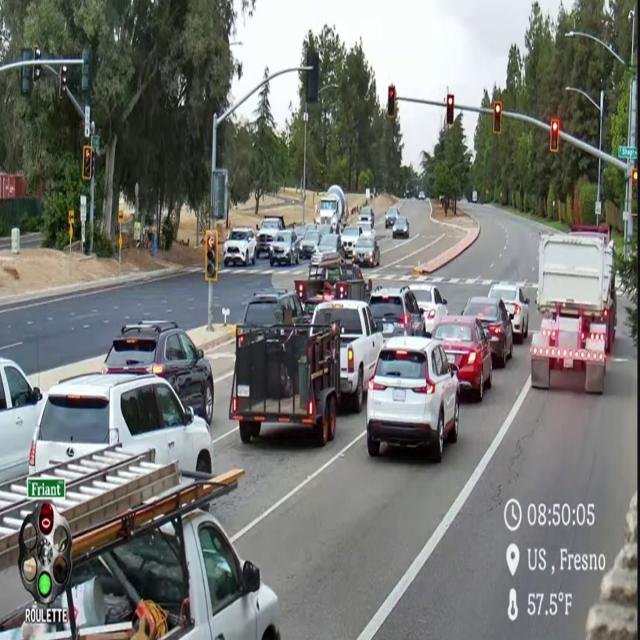car: (29, 373, 213, 474), (102, 321, 214, 424), (367, 337, 459, 462), (0, 359, 43, 482), (433, 316, 492, 401), (462, 296, 513, 367), (369, 286, 424, 339), (489, 283, 529, 343), (242, 289, 304, 326), (409, 283, 448, 335), (223, 228, 256, 266), (257, 216, 285, 258), (270, 230, 299, 266), (353, 237, 380, 266), (314, 234, 344, 258), (340, 225, 362, 257), (300, 227, 321, 258), (392, 216, 409, 239), (357, 220, 376, 238), (385, 207, 399, 229), (358, 207, 374, 226), (294, 224, 314, 239), (316, 224, 334, 236), (418, 192, 425, 199)
traffic signal: (306, 51, 319, 103), (205, 230, 217, 281), (38, 502, 54, 536), (81, 46, 90, 92), (20, 66, 32, 96), (82, 145, 92, 181), (387, 85, 396, 119), (493, 101, 502, 135), (550, 119, 559, 152), (59, 65, 67, 99), (446, 95, 454, 126), (32, 64, 41, 81), (632, 168, 637, 187)
truck: (0, 446, 279, 639), (530, 225, 616, 393), (229, 324, 339, 446), (311, 300, 383, 413), (294, 254, 372, 317), (316, 184, 347, 232), (256, 216, 285, 258)
